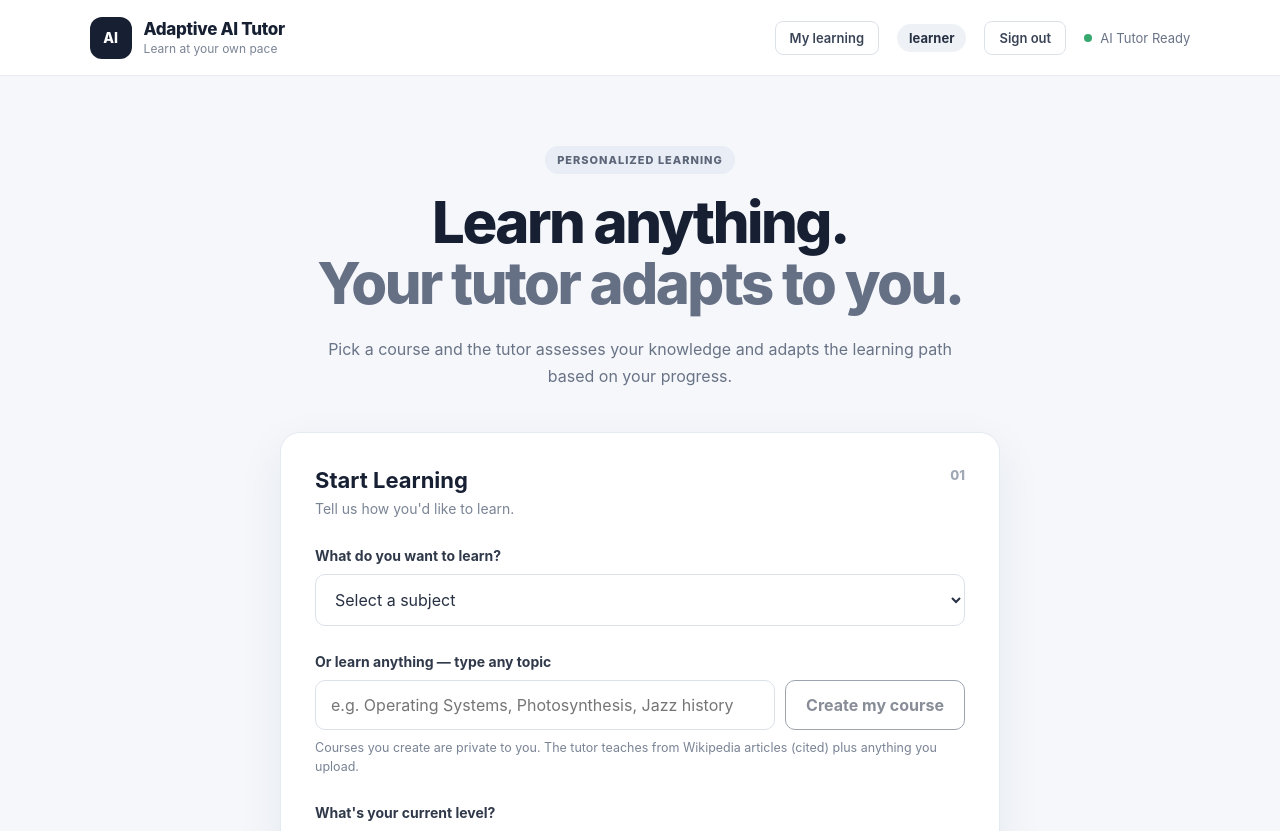
Test: my learning › lists the learner's courses and what they have learned
The image size is (1280, 831).
Click the button "My learning": (827, 38) [775,20,879,54]
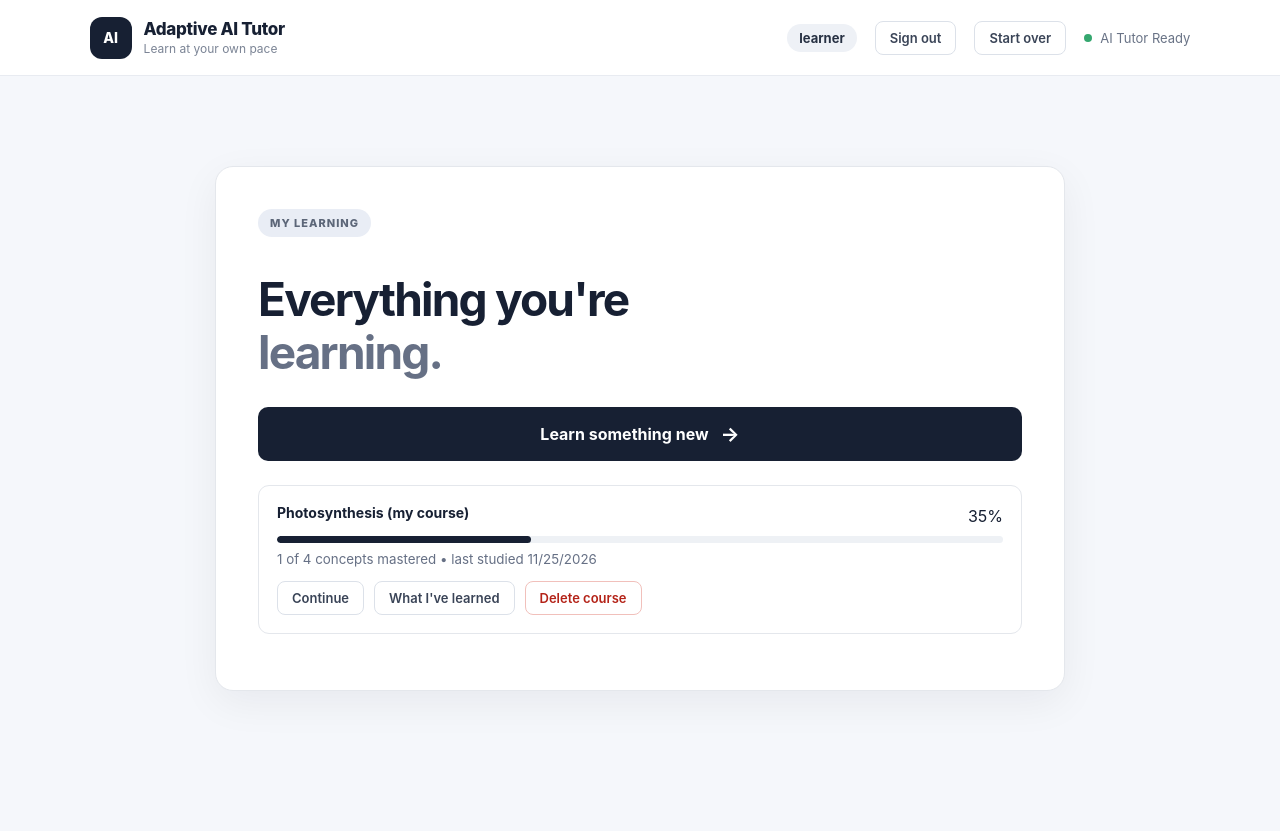
Result: the text "Photosynthesis (my course)" is shown at [277,504,469,521]
Result: the text "1 of 4 concepts mastered • last studied 11/25/2026" is shown at [277,551,597,567]
Click the button "What I've learned": (444, 598) [374,581,514,615]
(page scrolled)
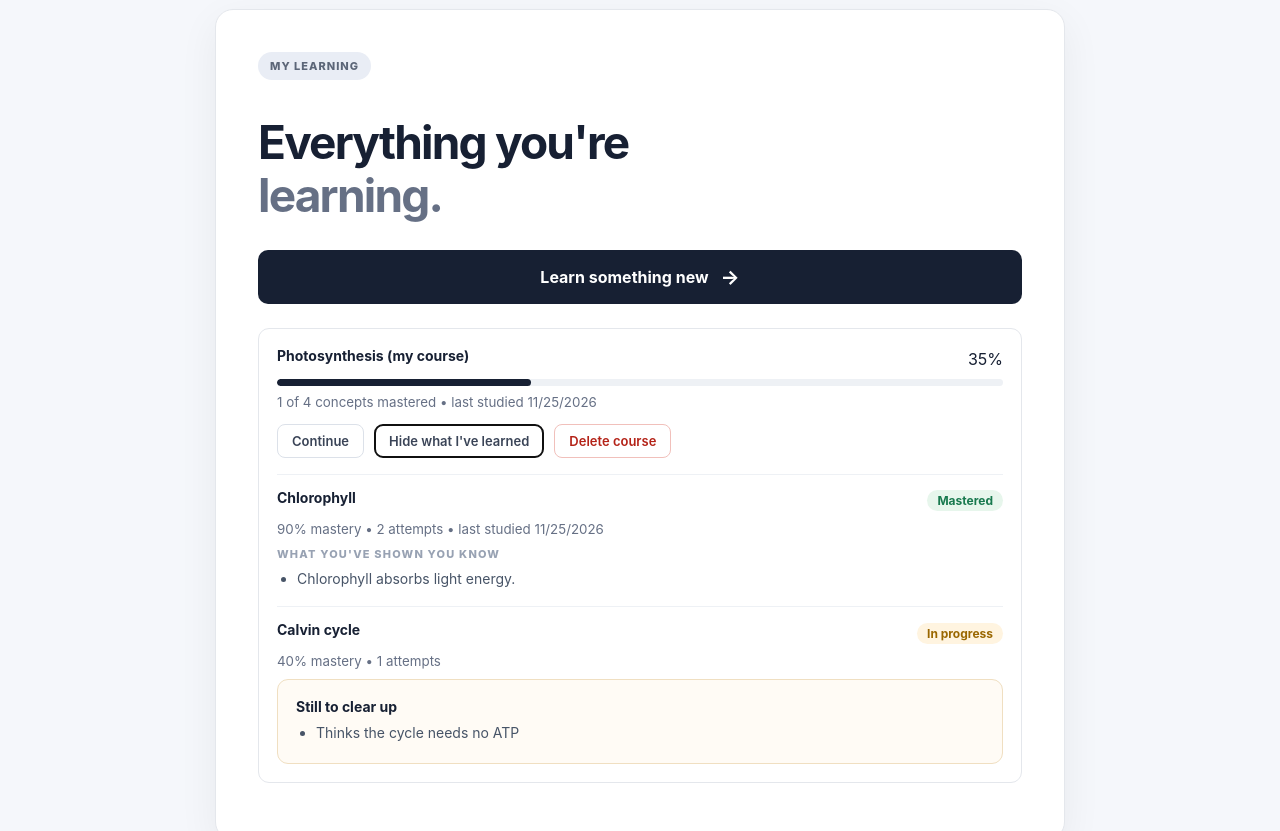
Result: the list item "Chlorophyll absorbs light energy." is shown at [297,570,515,587]
Result: the list item "Thinks the cycle needs no ATP" is shown at [316,724,519,741]
